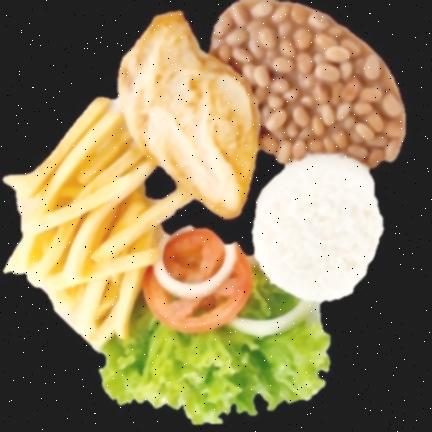beans: (211, 0, 405, 167)
chicken: (119, 13, 260, 218)
potato: (5, 99, 189, 343)
rice: (253, 155, 383, 300)
salad: (101, 297, 329, 425), (243, 267, 302, 321)
tomato: (144, 247, 252, 333), (164, 230, 226, 287)
